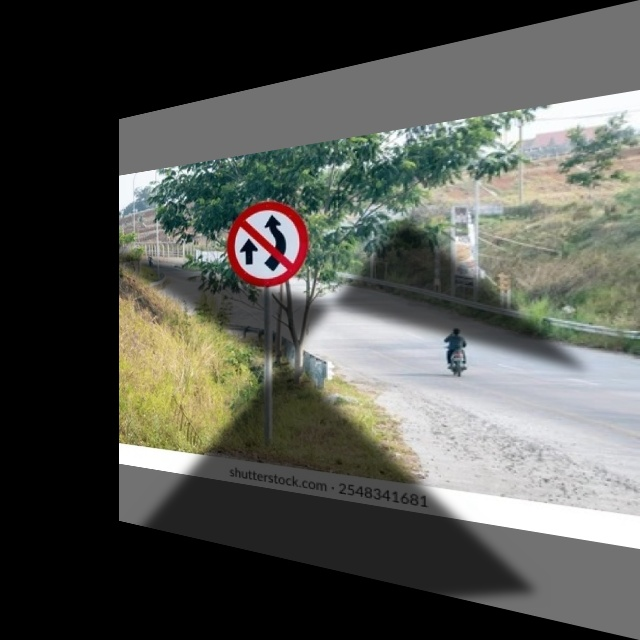Overtaking_Prohibited: (229, 195, 306, 287)
